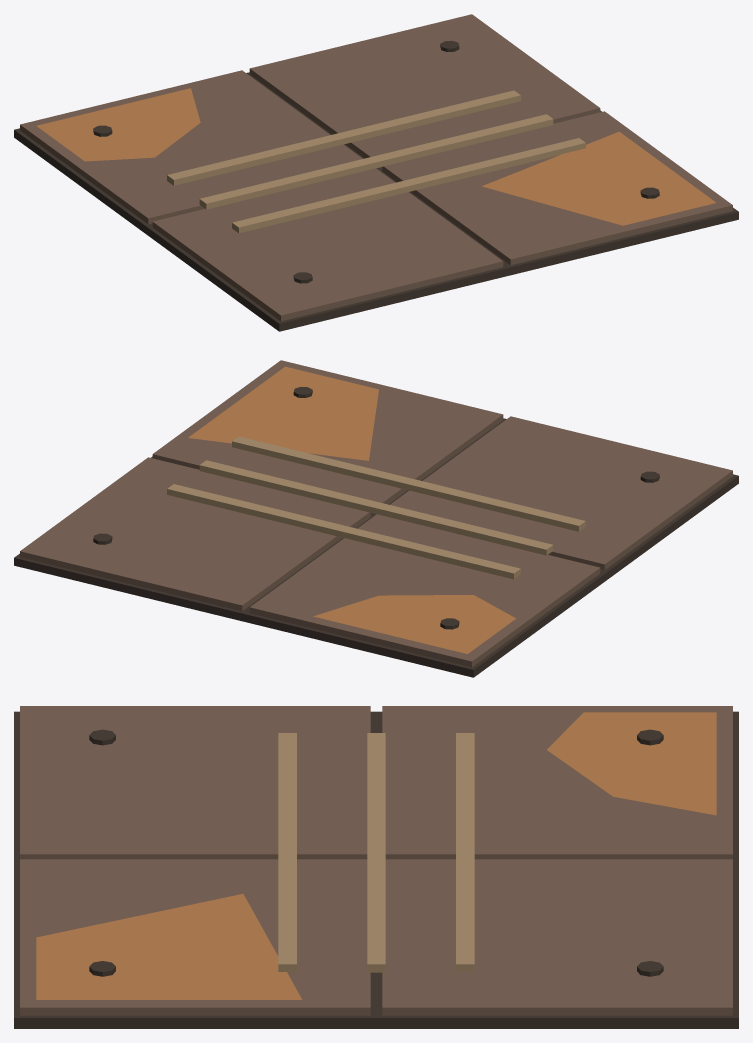
The model's file is foundry_floor_variant.glb.
The picture shows the model from 3 angles, top to bottom: view 1: azimuth 30°, elevation 25°; view 2: azimuth 150°, elevation 25°; view 3: azimuth 270°, elevation 25°; orthographic projection. The views are drawn at different scales.
Visible parts, largest first — view 1: foundry_floor_variant; view 2: foundry_floor_variant; view 3: foundry_floor_variant.
Boxes of the visible parts, left/top/right/bottom form: foundry_floor_variant: left=14, top=14, right=738, bottom=331; foundry_floor_variant: left=14, top=360, right=738, bottom=677; foundry_floor_variant: left=14, top=706, right=738, bottom=1028.
Size of the model in its own units: 1.96 by 0.08 by 1.96.
